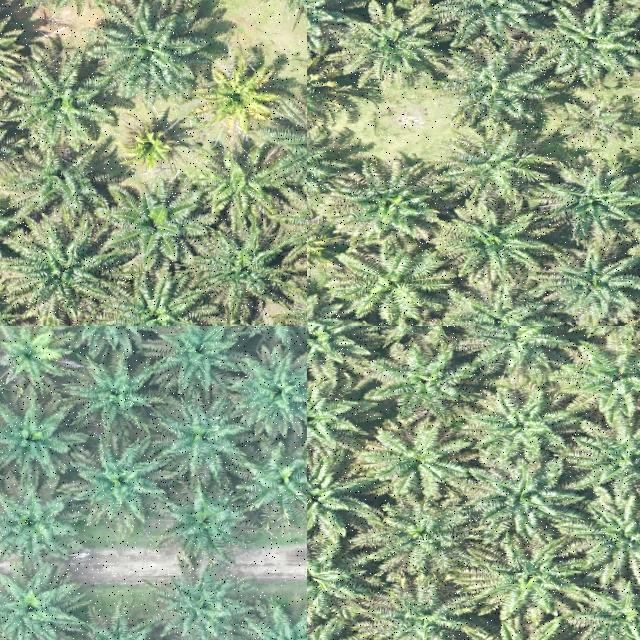Ganoderma: (0, 326, 60, 380), (207, 68, 268, 120), (130, 125, 178, 163), (307, 223, 330, 268)
